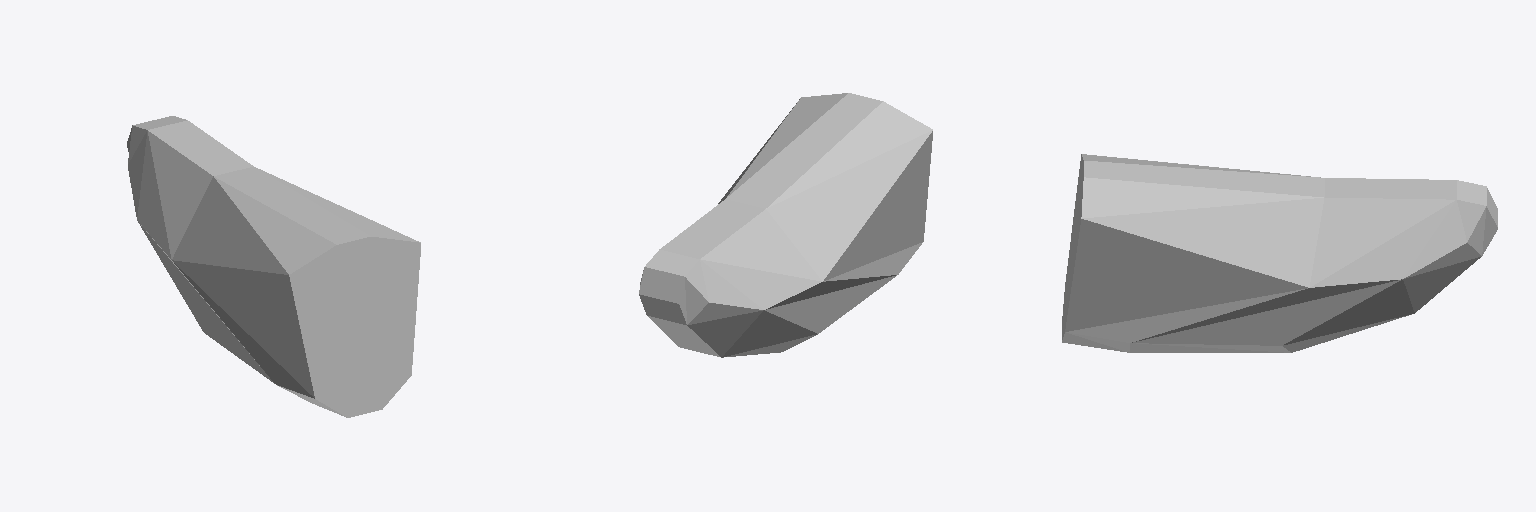
The model's file is Banana-C2.obj.
3 renders of one model, left to right at view 1: azimuth 30°, elevation 25°; view 2: azimuth 150°, elevation 25°; view 3: azimuth 270°, elevation 25°, orthographic.
Parts seen in each view (by area): view 1: Cube.014; view 2: Cube.014; view 3: Cube.014.
Part boxes in pixels (bbox=[...]): Cube.014: bbox=[127, 116, 420, 417]; Cube.014: bbox=[639, 93, 932, 357]; Cube.014: bbox=[1062, 154, 1497, 352].
Size of the model in its own units: 0.0939 by 0.1124 by 0.2553.